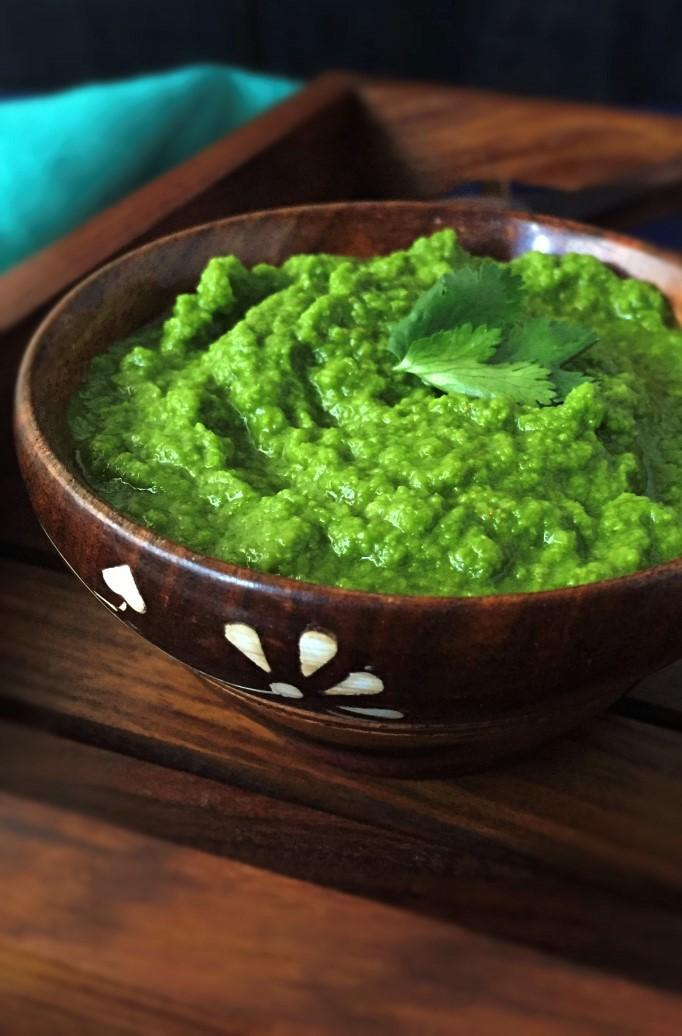GreenChutney: (56, 224, 682, 592)
